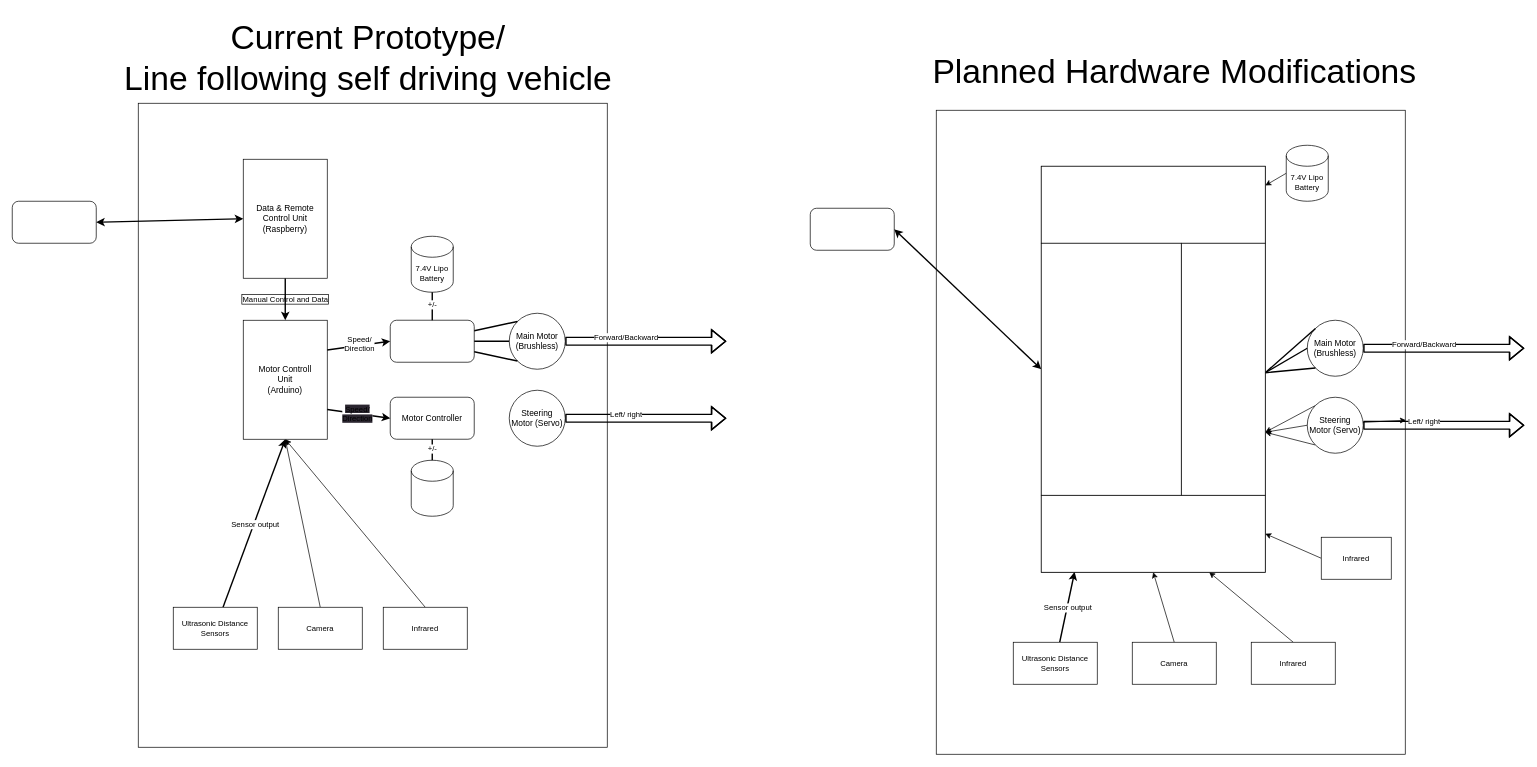
This 1537x767 diagram has some shape labels left out. The shapes that lost their labels are listed below. From the top down, each one's centre as x and y in pixels, then its label:
(x=54, y=222): Remote Control (WIFI)
(x=1153, y=204): Power Regulator
(x=852, y=229): Remote Control (Optional)
(x=432, y=341): ESC
(x=1111, y=369): Microchip
(x=1223, y=369): Electronic Speed Control
(x=432, y=488): 6V Batterypack
(x=1153, y=533): I/o management
